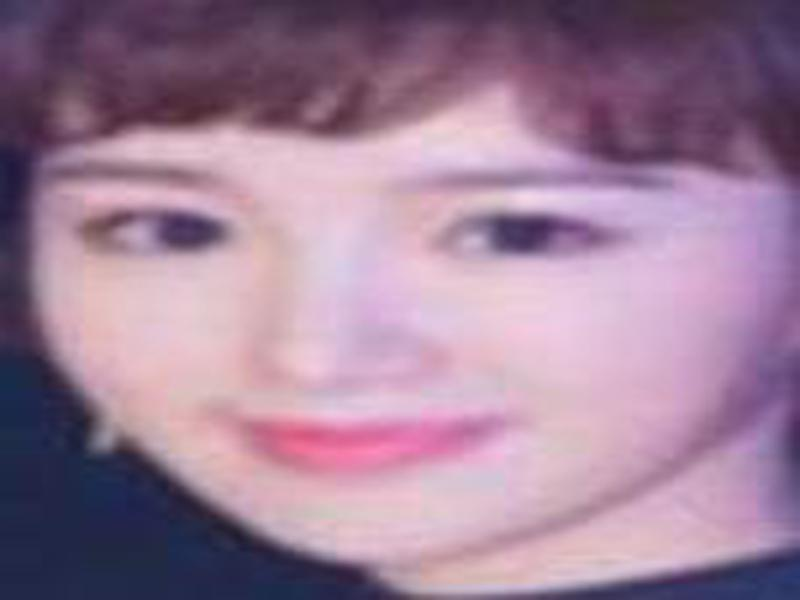without_mask: (28, 114, 774, 566)
